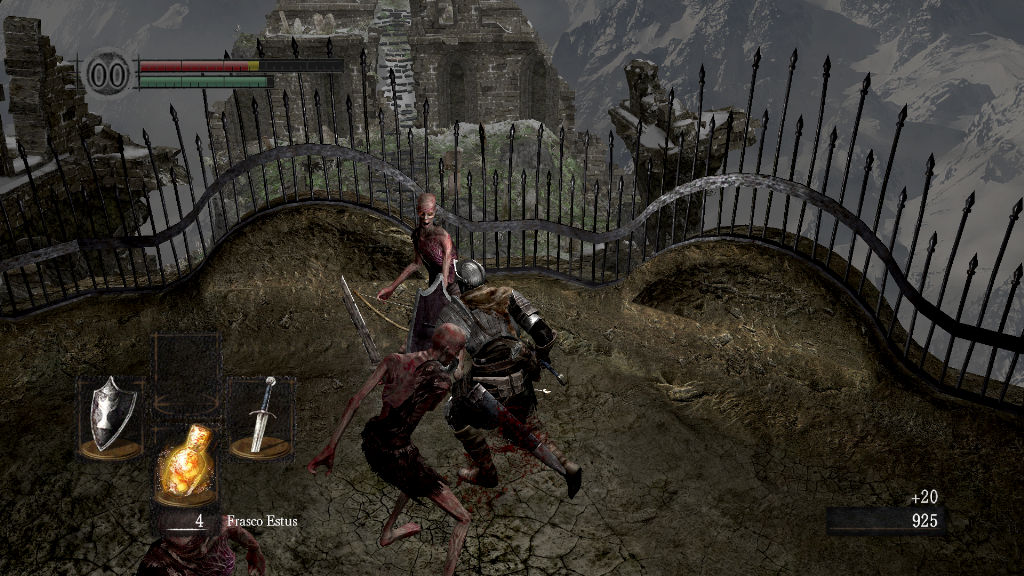health: (138, 58, 343, 71)
hollow: (305, 326, 470, 576), (357, 187, 460, 331)
humanity: (80, 45, 136, 102)
player: (408, 258, 586, 500)
souls: (825, 506, 945, 536)
stamina: (138, 74, 274, 88)
